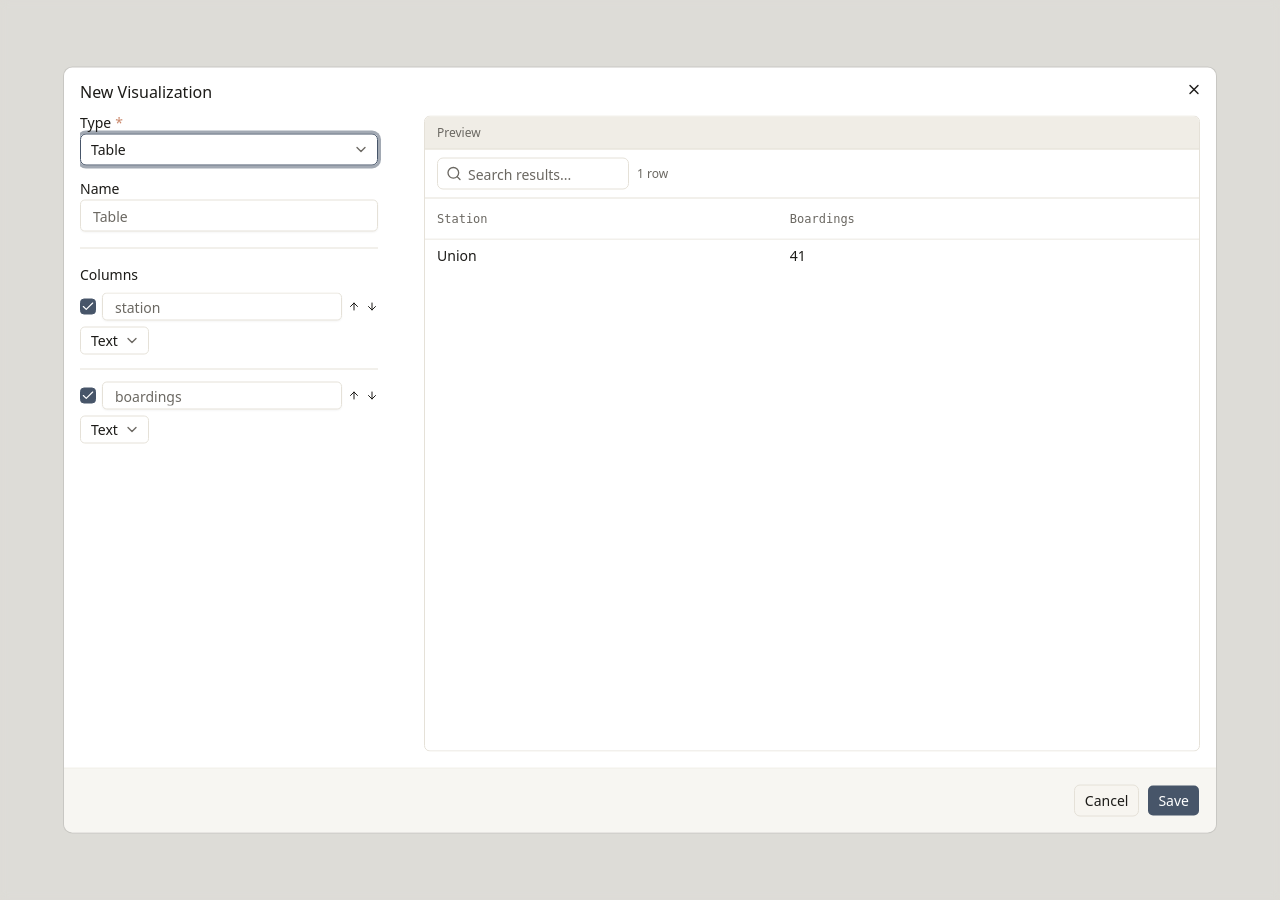
the type selector under an instance allowlist › offers every registered type when the instance names no allowlist
What coordinates should you click on to do the following:
click the dropdown named "Type"
I would click on:
 (108, 149)
Its box is 80,134 -> 378,166.
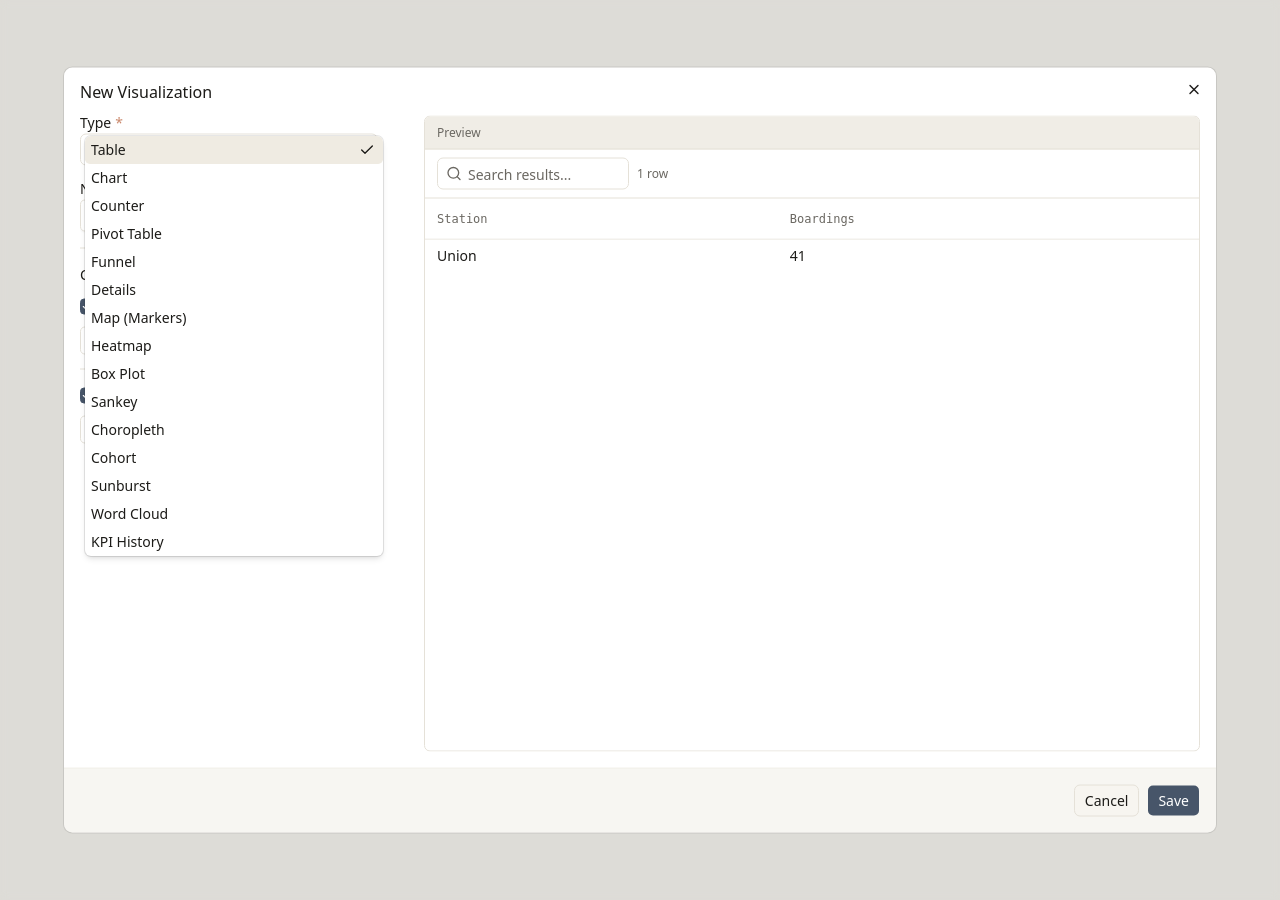
Check: the text "Sankey" is shown, box 91,392 -> 137,412
Check: the text "Word Cloud" is shown, box 91,504 -> 168,524
